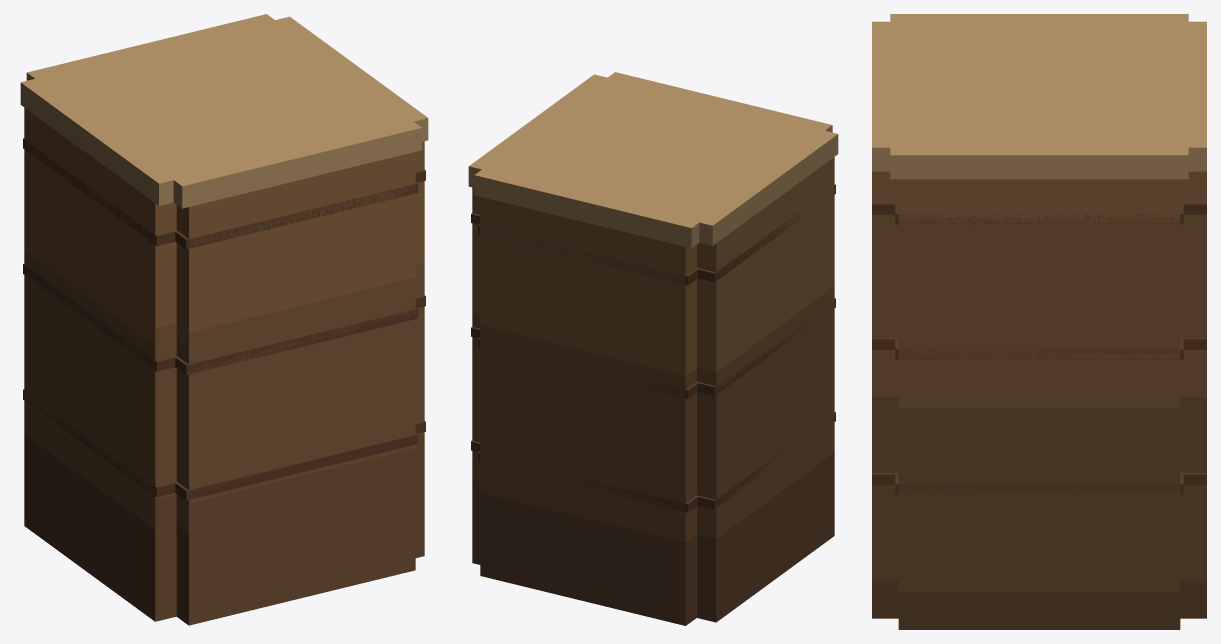
File: perimeter_wall_wood_cross.glb
3 views of the same model, side by side, from view 1: azimuth 30°, elevation 25°; view 2: azimuth 150°, elevation 25°; view 3: azimuth 270°, elevation 25° (orthographic). The views are drawn at different scales.
Bounding box in the file's own units: 2.02 × 3.6 × 2.02.
Materials: 1 (1 with a texture image).
